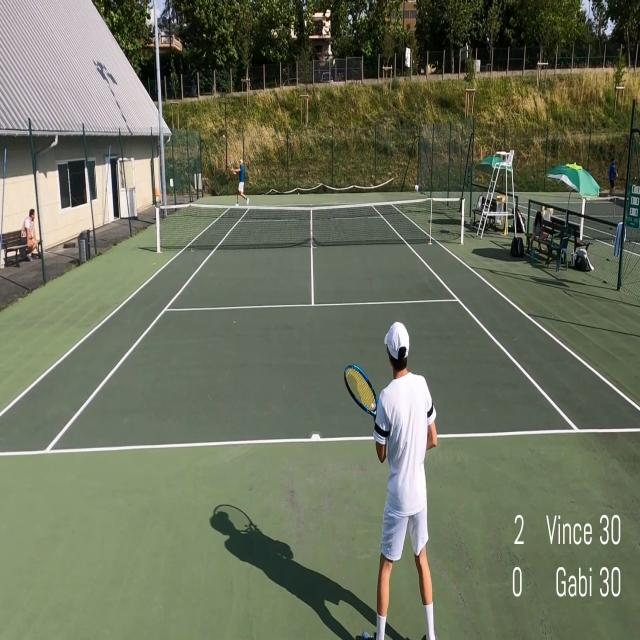ball: (223, 134, 225, 138)
